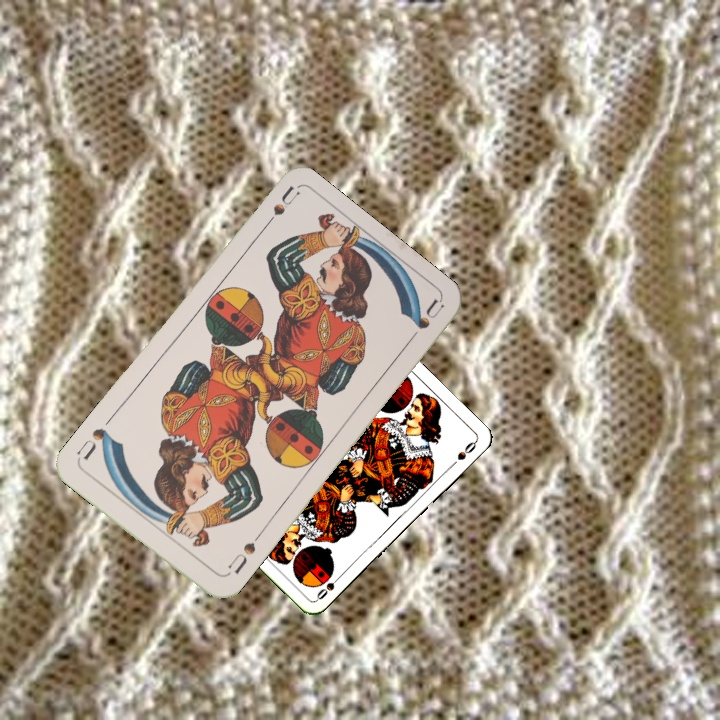SO: (312, 570, 345, 602)
SU: (256, 183, 301, 236), (221, 529, 264, 579)
